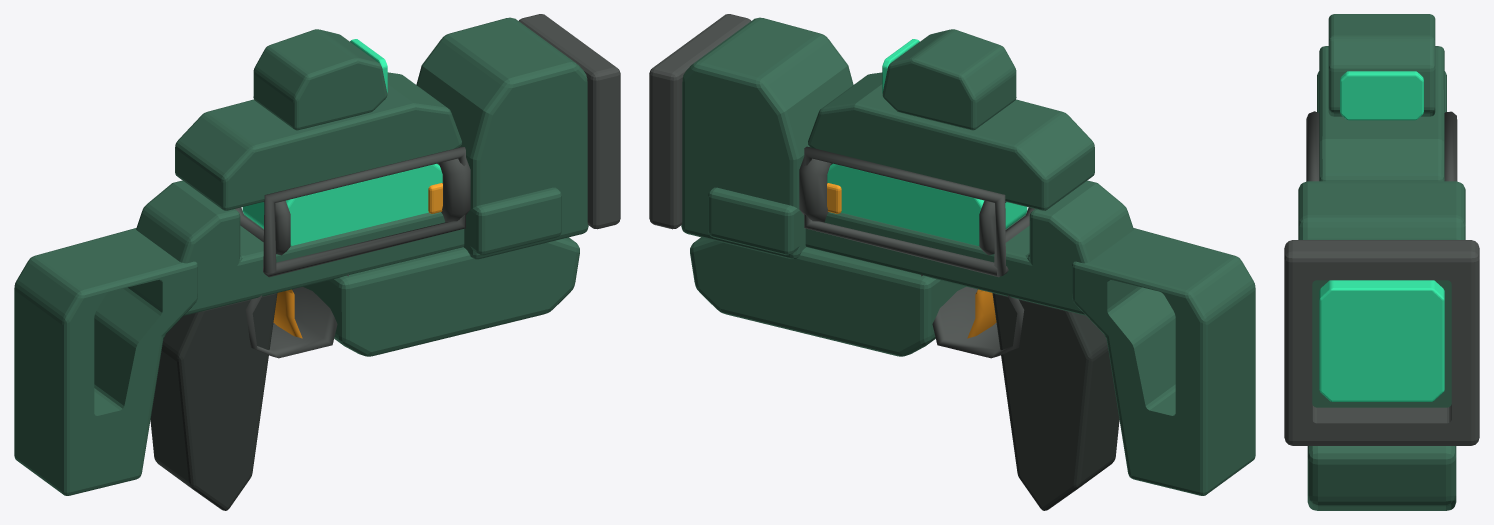
The picture shows the model from 3 angles, left to right: view 1: azimuth 30°, elevation 25°; view 2: azimuth 150°, elevation 25°; view 3: azimuth 270°, elevation 25°; orthographic projection. The views are drawn at different scales.
Visible parts, largest first — view 1: item.lasergun_heavy.rear_frame__LOD0, item.lasergun_heavy.muzzle_housing__LOD0, item.lasergun_heavy.upper_armor__LOD0, item.lasergun_heavy.power_module__LOD0, item.lasergun_heavy.grip__LOD0, item.lasergun_heavy.receiver__LOD0, item.lasergun_heavy.sensor_housing__LOD0, item.lasergun_heavy.energy_chamber__LOD0, item.lasergun_heavy.muzzle_frame__LOD0, item.lasergun_heavy.energy_frame__LOD0, item.lasergun_heavy.power_connector__LOD0, item.lasergun_heavy.trigger_guard__LOD0 (+3 smaller); view 2: item.lasergun_heavy.rear_frame__LOD0, item.lasergun_heavy.muzzle_housing__LOD0, item.lasergun_heavy.upper_armor__LOD0, item.lasergun_heavy.power_module__LOD0, item.lasergun_heavy.grip__LOD0, item.lasergun_heavy.receiver__LOD0, item.lasergun_heavy.sensor_housing__LOD0, item.lasergun_heavy.energy_chamber__LOD0, item.lasergun_heavy.muzzle_frame__LOD0, item.lasergun_heavy.energy_frame__LOD0, item.lasergun_heavy.power_connector__LOD0, item.lasergun_heavy.trigger_guard__LOD0 (+3 smaller); view 3: item.lasergun_heavy.muzzle_frame__LOD0, item.lasergun_heavy.muzzle_emitter__LOD0, item.lasergun_heavy.muzzle_housing__LOD0, item.lasergun_heavy.power_module__LOD0, item.lasergun_heavy.upper_armor__LOD0, item.lasergun_heavy.sensor_housing__LOD0, item.lasergun_heavy.sensor_lens__LOD0, item.lasergun_heavy.energy_frame__LOD0, item.lasergun_heavy.rear_frame__LOD0.
Boxes of the visible parts, box(x1,y1,x2,y2) form: item.lasergun_heavy.rear_frame__LOD0: box(14, 228, 197, 495); item.lasergun_heavy.muzzle_housing__LOD0: box(416, 17, 588, 259); item.lasergun_heavy.upper_armor__LOD0: box(175, 72, 461, 210); item.lasergun_heavy.power_module__LOD0: box(303, 237, 579, 356); item.lasergun_heavy.grip__LOD0: box(150, 293, 277, 510); item.lasergun_heavy.receiver__LOD0: box(136, 180, 464, 315); item.lasergun_heavy.sensor_housing__LOD0: box(253, 29, 387, 130); item.lasergun_heavy.energy_chamber__LOD0: box(242, 163, 442, 245); item.lasergun_heavy.muzzle_frame__LOD0: box(519, 14, 620, 229); item.lasergun_heavy.energy_frame__LOD0: box(263, 147, 465, 277); item.lasergun_heavy.power_connector__LOD0: box(469, 187, 561, 255); item.lasergun_heavy.trigger_guard__LOD0: box(245, 274, 348, 358); item.lasergun_heavy.rear_frame__LOD0: box(1072, 228, 1255, 495); item.lasergun_heavy.muzzle_housing__LOD0: box(681, 17, 853, 259); item.lasergun_heavy.upper_armor__LOD0: box(808, 72, 1094, 210); item.lasergun_heavy.power_module__LOD0: box(690, 237, 965, 356); item.lasergun_heavy.grip__LOD0: box(992, 293, 1119, 510); item.lasergun_heavy.receiver__LOD0: box(805, 180, 1133, 315); item.lasergun_heavy.sensor_housing__LOD0: box(882, 29, 1016, 130); item.lasergun_heavy.energy_chamber__LOD0: box(827, 163, 1027, 245); item.lasergun_heavy.muzzle_frame__LOD0: box(649, 14, 750, 229); item.lasergun_heavy.energy_frame__LOD0: box(804, 146, 1008, 277); item.lasergun_heavy.power_connector__LOD0: box(708, 187, 805, 255); item.lasergun_heavy.trigger_guard__LOD0: box(921, 274, 1024, 358); item.lasergun_heavy.muzzle_frame__LOD0: box(1284, 240, 1479, 445); item.lasergun_heavy.muzzle_emitter__LOD0: box(1319, 280, 1444, 401); item.lasergun_heavy.muzzle_housing__LOD0: box(1298, 181, 1465, 407); item.lasergun_heavy.power_module__LOD0: box(1307, 446, 1456, 510); item.lasergun_heavy.upper_armor__LOD0: box(1319, 46, 1444, 181); item.lasergun_heavy.sensor_housing__LOD0: box(1328, 14, 1435, 116); item.lasergun_heavy.sensor_lens__LOD0: box(1340, 71, 1423, 120); item.lasergun_heavy.energy_frame__LOD0: box(1306, 111, 1457, 181); item.lasergun_heavy.rear_frame__LOD0: box(1317, 71, 1446, 112).
Size of the model in its own units: 1.67 by 1.24 by 0.42.
